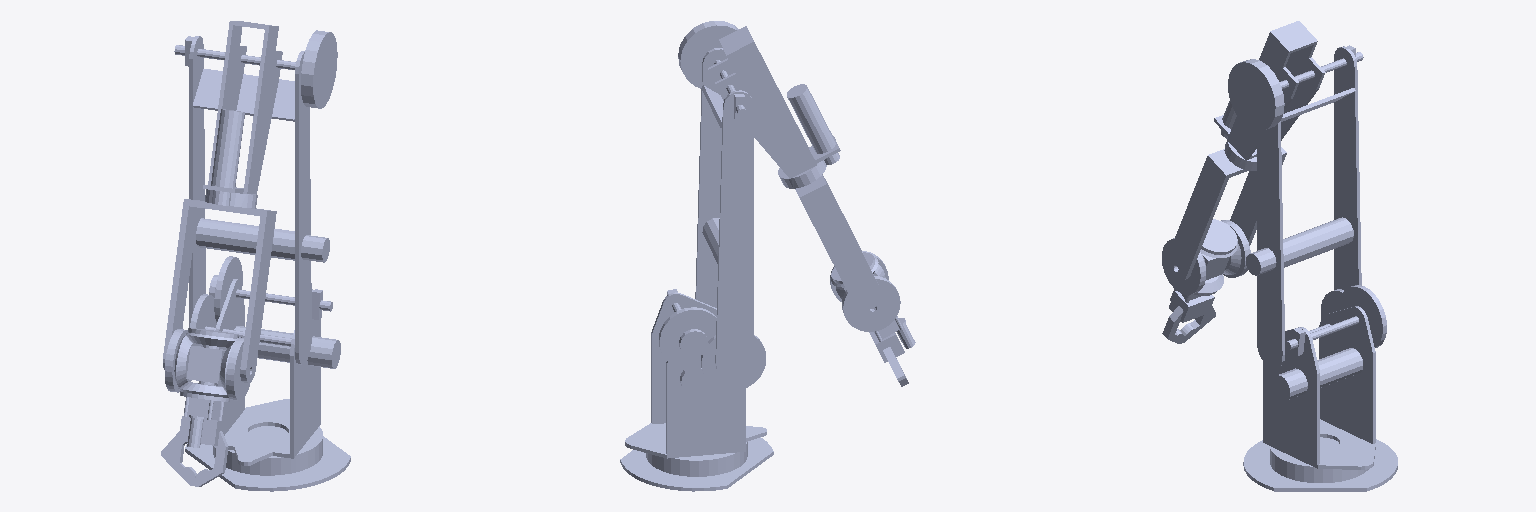
robot.urdf — wroboarm_23:
<?xml version="1.0" encoding="utf-8"?>
<!-- This URDF was automatically created by SolidWorks to URDF Exporter! Originally created by [author] ([email redacted]) 
     Commit Version: 1.6.0-4-g7f85cfe  Build Version: 1.6.7995.38578
     For more information, please see http://wiki.ros.org/sw_urdf_exporter -->
<robot
  name="wroboarm_23">
  <link
    name="base_link">
    <inertial>
      <origin
        xyz="9.1830074983592E-19 -9.80159456515381E-19 0.015606490089144"
        rpy="0 0 0" />
      <mass
        value="0.93972387307473" />
      <inertia
        ixx="0.00251429022255044"
        ixy="7.37485241366082E-20"
        ixz="8.66637218064247E-21"
        iyy="0.0021336882069818"
        iyz="1.14091331088149E-19"
        izz="0.0044229329573873" />
    </inertial>
    <visual>
      <origin
        xyz="0 0 0"
        rpy="0 0 0" />
      <geometry>
        <mesh
          filename="package://wroboarm_23/meshes/base_link.STL" />
      </geometry>
      <material
        name="">
        <color
          rgba="0.792156862745098 0.819607843137255 0.933333333333333 1" />
      </material>
    </visual>
    <collision>
      <origin
        xyz="0 0 0"
        rpy="0 0 0" />
      <geometry>
        <mesh
          filename="package://wroboarm_23/meshes/base_link.STL" />
      </geometry>
    </collision>
  </link>
  <link
    name="turntable_link">
    <inertial>
      <origin
        xyz="-0.01225868218219 0.128577249577976 -0.00370544350042927"
        rpy="0 0 0" />
      <mass
        value="0.996366805002726" />
      <inertia
        ixx="0.00652370094208946"
        ixy="0.0010646616036529"
        ixz="0.000283127005277363"
        iyy="0.0050231810993567"
        iyz="6.82113719161566E-05"
        izz="0.00863345382595838" />
    </inertial>
    <visual>
      <origin
        xyz="0 0 0"
        rpy="0 0 0" />
      <geometry>
        <mesh
          filename="package://wroboarm_23/meshes/turntable_link.STL" />
      </geometry>
      <material
        name="">
        <color
          rgba="0.792156862745098 0.819607843137255 0.933333333333333 1" />
      </material>
    </visual>
    <collision>
      <origin
        xyz="0 0 0"
        rpy="0 0 0" />
      <geometry>
        <mesh
          filename="package://wroboarm_23/meshes/turntable_link.STL" />
      </geometry>
    </collision>
  </link>
  <joint
    name="turntable_joint"
    type="continuous">
    <origin
      xyz="0 0 0.035865"
      rpy="1.5708 0 -0.84509" />
    <parent
      link="base_link" />
    <child
      link="turntable_link" />
    <axis
      xyz="0 1 0" />
  </joint>
  <link
    name="upperArm_link">
    <inertial>
      <origin
        xyz="0.0143973999054599 -3.20061625693202E-05 0.279348384794928"
        rpy="0 0 0" />
      <mass
        value="0.985210343915811" />
      <inertia
        ixx="0.0237982224738338"
        ixy="-8.8797773328906E-07"
        ixz="-0.00388532856230116"
        iyy="0.0293594722597601"
        iyz="-7.129443699684E-06"
        izz="0.00625034839320102" />
    </inertial>
    <visual>
      <origin
        xyz="0 0 0"
        rpy="0 0 0" />
      <geometry>
        <mesh
          filename="package://wroboarm_23/meshes/upperArm_link.STL" />
      </geometry>
      <material
        name="">
        <color
          rgba="0.792156862745098 0.819607843137255 0.933333333333333 1" />
      </material>
    </visual>
    <collision>
      <origin
        xyz="0 0 0"
        rpy="0 0 0" />
      <geometry>
        <mesh
          filename="package://wroboarm_23/meshes/upperArm_link.STL" />
      </geometry>
    </collision>
  </link>
  <joint
    name="shoulder_joint"
    type="continuous">
    <origin
      xyz="0 0.18098 0.043071"
      rpy="-1.5572 0 0" />
    <parent
      link="turntable_link" />
    <child
      link="upperArm_link" />
    <axis
      xyz="-1 0 0" />
  </joint>
  <link
    name="forearm_link">
    <inertial>
      <origin
        xyz="-4.1286418728248E-16 0.0550154986611603 0.120152803034247"
        rpy="0 0 0" />
      <mass
        value="0.51779610173045" />
      <inertia
        ixx="0.00404850874710764"
        ixy="-4.33680868994202E-19"
        ixz="2.87313575708659E-18"
        iyy="0.00375548329392275"
        iyz="-0.000377385363706531"
        izz="0.000788327838226511" />
    </inertial>
    <visual>
      <origin
        xyz="0 0 0"
        rpy="0 0 0" />
      <geometry>
        <mesh
          filename="package://wroboarm_23/meshes/forearm_link.STL" />
      </geometry>
      <material
        name="">
        <color
          rgba="0.792156862745098 0.819607843137255 0.933333333333333 1" />
      </material>
    </visual>
    <collision>
      <origin
        xyz="0 0 0"
        rpy="0 0 0" />
      <geometry>
        <mesh
          filename="package://wroboarm_23/meshes/forearm_link.STL" />
      </geometry>
    </collision>
  </link>
  <joint
    name="elbowPitch_joint"
    type="continuous">
    <origin
      xyz="0 0 0.46634"
      rpy="2.7009 0 0" />
    <parent
      link="upperArm_link" />
    <child
      link="forearm_link" />
    <axis
      xyz="-1 0 0" />
  </joint>
  <link
    name="wrist_link">
    <inertial>
      <origin
        xyz="-2.77555756156289E-17 5.55111512312578E-17 0.096820252622317"
        rpy="0 0 0" />
      <mass
        value="0.301763082175336" />
      <inertia
        ixx="0.00210344289702837"
        ixy="1.30104260698261E-18"
        ixz="5.14996031930615E-19"
        iyy="0.00305016250706558"
        iyz="-1.15196480826585E-18"
        izz="0.00107609106501786" />
    </inertial>
    <visual>
      <origin
        xyz="0 0 0"
        rpy="0 0 0" />
      <geometry>
        <mesh
          filename="package://wroboarm_23/meshes/wrist_link.STL" />
      </geometry>
      <material
        name="">
        <color
          rgba="0.792156862745098 0.819607843137255 0.933333333333333 1" />
      </material>
    </visual>
    <collision>
      <origin
        xyz="0 0 0"
        rpy="0 0 0" />
      <geometry>
        <mesh
          filename="package://wroboarm_23/meshes/wrist_link.STL" />
      </geometry>
    </collision>
  </link>
  <joint
    name="elbowRoll_joint"
    type="continuous">
    <origin
      xyz="0 0.04445 0.23038"
      rpy="0 0 0" />
    <parent
      link="forearm_link" />
    <child
      link="wrist_link" />
    <axis
      xyz="0 0 1" />
  </joint>
  <link
    name="carpus_link">
    <inertial>
      <origin
        xyz="5.55111512312578E-17 5.55111512312578E-17 0"
        rpy="0 0 0" />
      <mass
        value="0.447707117943177" />
      <inertia
        ixx="0.000367702266904795"
        ixy="7.04731412115578E-19"
        ixz="1.62630325872826E-19"
        iyy="0.000843427086265753"
        iyz="0"
        izz="0.000844746123560661" />
    </inertial>
    <visual>
      <origin
        xyz="0 0 0"
        rpy="0 0 0" />
      <geometry>
        <mesh
          filename="package://wroboarm_23/meshes/carpus_link.STL" />
      </geometry>
      <material
        name="">
        <color
          rgba="0.792156862745098 0.819607843137255 0.933333333333333 1" />
      </material>
    </visual>
    <collision>
      <origin
        xyz="0 0 0"
        rpy="0 0 0" />
      <geometry>
        <mesh
          filename="package://wroboarm_23/meshes/carpus_link.STL" />
      </geometry>
    </collision>
  </link>
  <joint
    name="wristPitch_joint"
    type="continuous">
    <origin
      xyz="0 0 0.23528"
      rpy="0 0 0" />
    <parent
      link="wrist_link" />
    <child
      link="carpus_link" />
    <axis
      xyz="-1 0 0" />
  </joint>
  <link
    name="endEffector_link">
    <inertial>
      <origin
        xyz="-0.000725623905114631 -0.000893578002320872 0.0499824104113341"
        rpy="0 0 0" />
      <mass
        value="0.399994299548626" />
      <inertia
        ixx="0.00169604127916281"
        ixy="-3.07411212276679E-06"
        ixz="2.57918978917245E-05"
        iyy="0.00173351996343527"
        iyz="5.0605971705242E-05"
        izz="0.000256533582960489" />
    </inertial>
    <visual>
      <origin
        xyz="0 0 0"
        rpy="0 0 0" />
      <geometry>
        <mesh
          filename="package://wroboarm_23/meshes/endEffector_link.STL" />
      </geometry>
      <material
        name="">
        <color
          rgba="0.792156862745098 0.819607843137255 0.933333333333333 1" />
      </material>
    </visual>
    <collision>
      <origin
        xyz="0 0 0"
        rpy="0 0 0" />
      <geometry>
        <mesh
          filename="package://wroboarm_23/meshes/endEffector_link.STL" />
      </geometry>
    </collision>
  </link>
  <joint
    name="wristRoll_link"
    type="continuous">
    <origin
      xyz="0 0 0"
      rpy="0 0 0" />
    <parent
      link="carpus_link" />
    <child
      link="endEffector_link" />
    <axis
      xyz="0 0 1" />
  </joint>
</robot>

--- Render facts (derived) ---
3 views of the same robot in one strip: view 1: azimuth 30°, elevation 25°; view 2: azimuth 150°, elevation 25°; view 3: azimuth 270°, elevation 25° (orthographic).
Robot: wroboarm_23 — 7 links, 6 joints (6 continuous); root link base_link; default pose: all joints at 0.
Links seen in each view (by area): view 1: upperArm_link, turntable_link, forearm_link, wrist_link, base_link, endEffector_link, carpus_link; view 2: upperArm_link, turntable_link, forearm_link, wrist_link, base_link, carpus_link, endEffector_link; view 3: upperArm_link, turntable_link, forearm_link, wrist_link, base_link, endEffector_link, carpus_link.
Boxes of the visible links, bbox=[...] form: upperArm_link: bbox=[174, 30, 337, 364]; turntable_link: bbox=[190, 256, 340, 465]; forearm_link: bbox=[203, 21, 282, 208]; wrist_link: bbox=[163, 199, 276, 382]; base_link: bbox=[185, 426, 350, 491]; endEffector_link: bbox=[161, 328, 238, 486]; carpus_link: bbox=[165, 329, 249, 400]; upperArm_link: bbox=[678, 21, 753, 379]; turntable_link: bbox=[625, 289, 766, 458]; forearm_link: bbox=[708, 26, 840, 188]; wrist_link: bbox=[795, 174, 886, 318]; base_link: bbox=[620, 437, 773, 491]; carpus_link: bbox=[830, 251, 900, 331]; endEffector_link: bbox=[831, 252, 915, 386]; upperArm_link: bbox=[1228, 45, 1363, 367]; turntable_link: bbox=[1263, 285, 1386, 469]; forearm_link: bbox=[1214, 21, 1325, 170]; wrist_link: bbox=[1167, 147, 1286, 280]; base_link: bbox=[1243, 437, 1397, 491]; endEffector_link: bbox=[1162, 219, 1237, 343]; carpus_link: bbox=[1162, 220, 1250, 294].
Size in the robot's own frame: 0.3944 by 0.3881 by 0.7641 metres.
7 mesh visuals loaded from 7 distinct referenced files (7 binary STL).